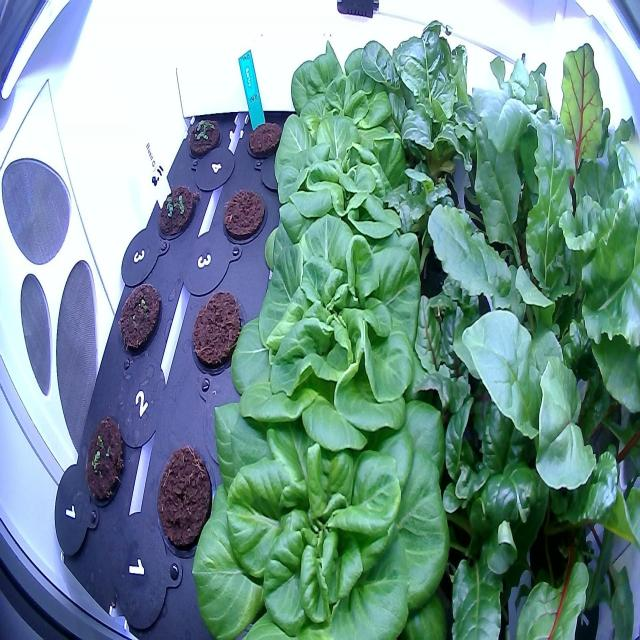Ready: (188, 376, 459, 638), (223, 210, 451, 464), (268, 105, 426, 247), (276, 31, 426, 168)
germination: (80, 407, 128, 514), (153, 175, 199, 247), (183, 103, 225, 168)
pod: (151, 437, 219, 559), (188, 276, 249, 384), (115, 272, 164, 364), (217, 182, 271, 254), (240, 106, 286, 164)
